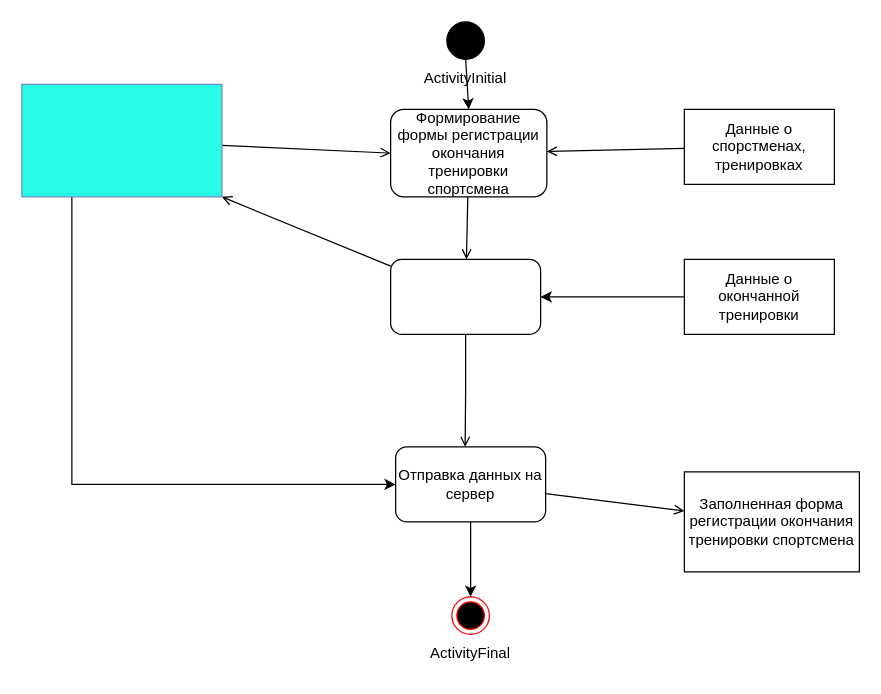
This 881x694 diagram has some shape labels left out. The shapes that lost their labels are listed below. From the top down, each one's box as (x1, y1, x2, y2) in pixels, then its label:
(21, 83, 222, 197): Форма регистрации окончания тренировки спортсмена
(389, 258, 541, 334): Занесение данных о окончанной тренировке
